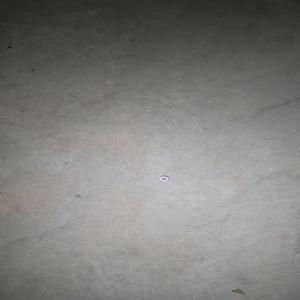Nut: (159, 175, 169, 181)
